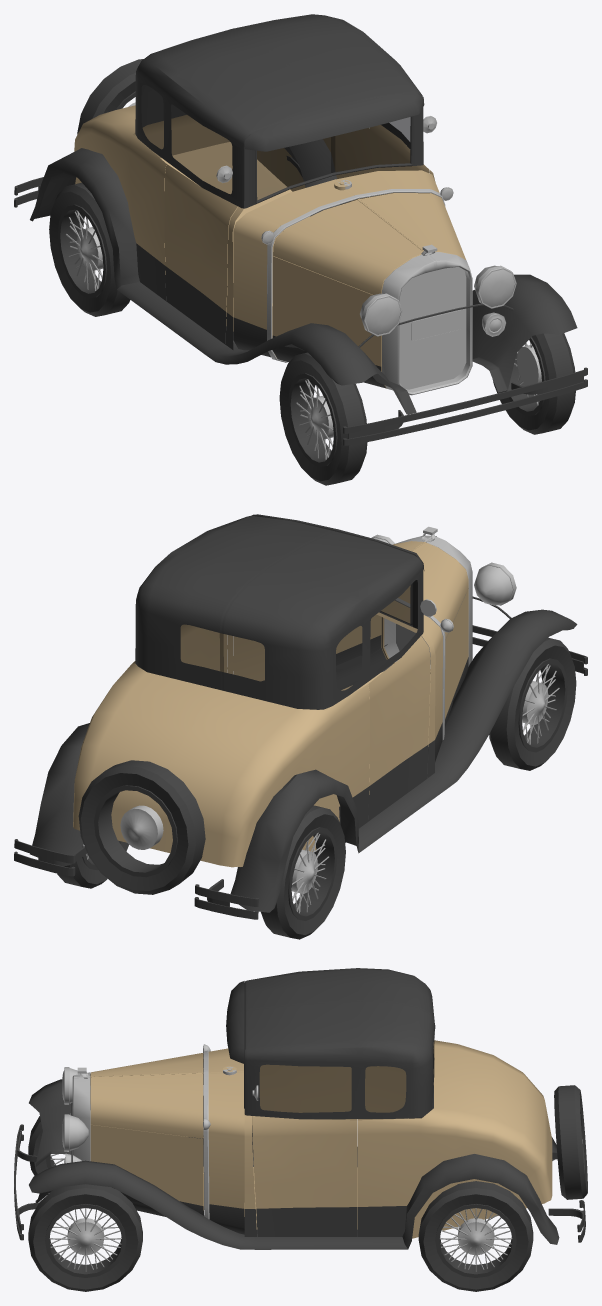
The model's file is OldCar.fbx.
3 views of the same model, one above another, from view 1: azimuth 30°, elevation 25°; view 2: azimuth 150°, elevation 25°; view 3: azimuth 270°, elevation 25° (orthographic). The views are drawn at different scales.
Visible parts, largest first — view 1: polySurface86; view 2: polySurface86; view 3: polySurface86.
Boxes of the visible parts, <box> form: polySurface86: <box>14,14,587,485</box>; polySurface86: <box>14,514,587,939</box>; polySurface86: <box>14,968,587,1291</box>.
Size of the model in its own units: 8.86 by 10.01 by 21.29.
